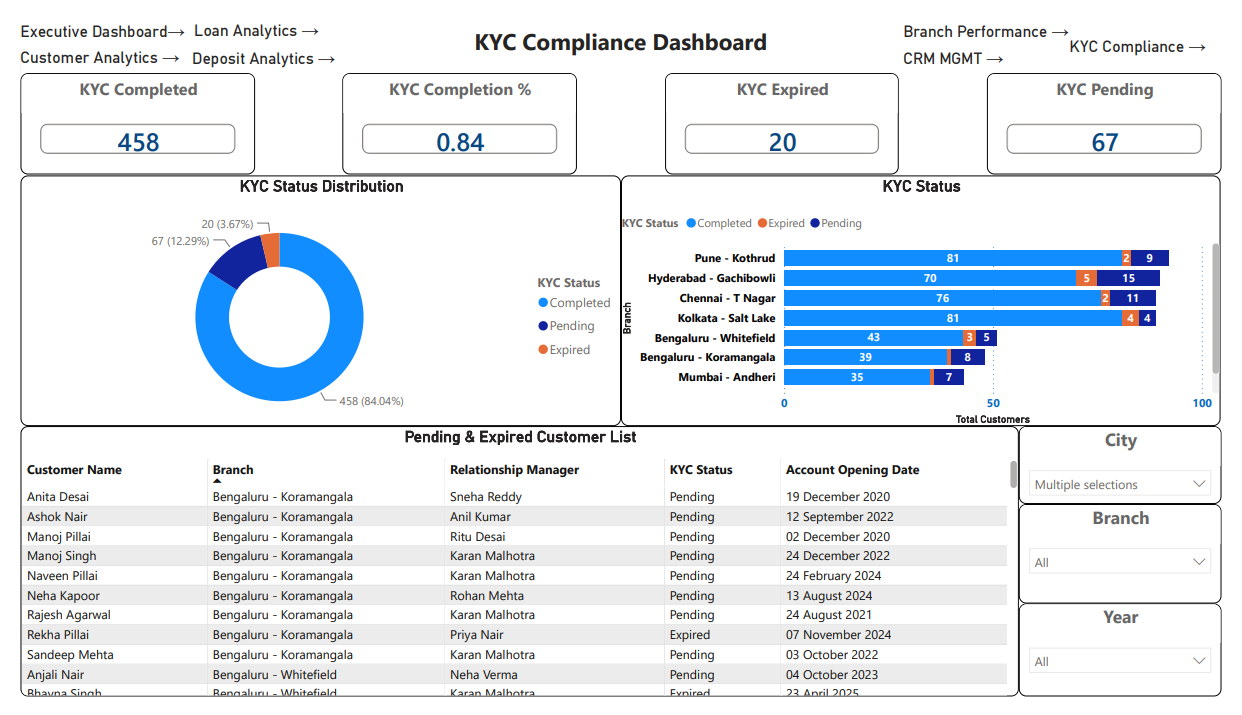

Layout of this report page (visuals, bound fields, positions):
{"tool":"powerbi","page":{"name":"KYC Compliance","canvas":[1280,720],"ordinal":6},"visuals":[{"type":"textbox","box":[459.6,0,360.7,56.3],"z":0},{"type":"cardVisual","title":"KYC Completed","fields":{"Data":["KYC Measures.KYC Completed"]},"box":[0,56.3,249.6,108.2],"z":1000},{"type":"cardVisual","title":"KYC Expired","fields":{"Data":["KYC Measures.KYC Expired"]},"box":[686.8,56.3,249.6,108.2],"z":2000},{"type":"cardVisual","title":"KYC Completion %","fields":{"Data":["KYC Measures.KYC Completion %"]},"box":[343.4,56.3,249.6,108.2],"z":3000},{"type":"cardVisual","title":"KYC Pending","fields":{"Data":["KYC Measures.KYC Pending"]},"box":[1030.1,56.3,249.6,108.2],"z":4000},{"type":"donutChart","title":"KYC Status Distribution","fields":{"Category":["Customers.KYC Status"],"Y":["Mesures.Total Customers"]},"box":[0,165.1,639.5,266.6],"z":5000},{"type":"barChart","title":"KYC Status","fields":{"Category":["Customers.Branch"],"Y":["Mesures.Total Customers"],"Series":["Customers.KYC Status"]},"box":[639.5,165.1,639.5,266.6],"z":6000},{"type":"tableEx","title":"Pending & Expired Customer List","fields":{"Values":["Customers.Customer Name","Customers.Branch","Customers.Relationship Manager","Customers.KYC Status","Customers.Account Opening Date"]},"box":[0,431.7,1063.9,288.6],"z":7000},{"type":"slicer","title":"City","fields":{"Values":["Customers.City"]},"box":[1063.9,431.7,216.4,83.2],"z":8000},{"type":"slicer","title":"Branch","fields":{"Values":["Customers.Branch"]},"box":[1063.9,514.8,216.4,106.4],"z":9000},{"type":"slicer","title":"Year","fields":{"Values":["DimDate.Year"]},"box":[1063.9,621.2,216.4,99],"z":10000},{"type":"actionButton","title":"Customer Analytics →","box":[0,27.7,177.3,29],"z":11000},{"type":"actionButton","title":"Loan Analytics →","box":[184.6,0,177.3,27.7],"z":12000},{"type":"actionButton","title":"Deposit Analytics →","box":[183.4,29,177.3,29],"z":13000},{"type":"actionButton","title":"Branch Performance →","box":[941,1.2,177.3,29],"z":14000},{"type":"actionButton","title":"CRM MGMT →","box":[941,29,160.5,29],"z":15000},{"type":"actionButton","title":"KYC Compliance →","box":[1118.4,15.7,155.6,29],"z":16000},{"type":"actionButton","title":"Executive Dashboard→","box":[0,1.2,177.3,29],"z":17000}]}

Visuals, with their boxes in screenshot pixels (x1, y1, x2, y2), scaled from the page's 1280x720 canvas onto the 1242x715 screenshot:
textbox: [x1=446, y1=0, x2=796, y2=56]
"KYC Completed" cardVisual: [x1=0, y1=56, x2=242, y2=163]
"KYC Expired" cardVisual: [x1=666, y1=56, x2=909, y2=163]
"KYC Completion %" cardVisual: [x1=333, y1=56, x2=575, y2=163]
"KYC Pending" cardVisual: [x1=1000, y1=56, x2=1241, y2=163]
"KYC Status Distribution" donutChart: [x1=0, y1=164, x2=621, y2=429]
"KYC Status" barChart: [x1=621, y1=164, x2=1241, y2=429]
"Pending & Expired Customer List" tableEx: [x1=0, y1=429, x2=1032, y2=714]
"City" slicer: [x1=1032, y1=429, x2=1241, y2=511]
"Branch" slicer: [x1=1032, y1=511, x2=1241, y2=617]
"Year" slicer: [x1=1032, y1=617, x2=1241, y2=714]
"Customer Analytics →" actionButton: [x1=0, y1=28, x2=172, y2=56]
"Loan Analytics →" actionButton: [x1=179, y1=0, x2=351, y2=28]
"Deposit Analytics →" actionButton: [x1=178, y1=29, x2=350, y2=58]
"Branch Performance →" actionButton: [x1=913, y1=1, x2=1085, y2=30]
"CRM MGMT →" actionButton: [x1=913, y1=29, x2=1069, y2=58]
"KYC Compliance →" actionButton: [x1=1085, y1=16, x2=1236, y2=44]
"Executive Dashboard→" actionButton: [x1=0, y1=1, x2=172, y2=30]
